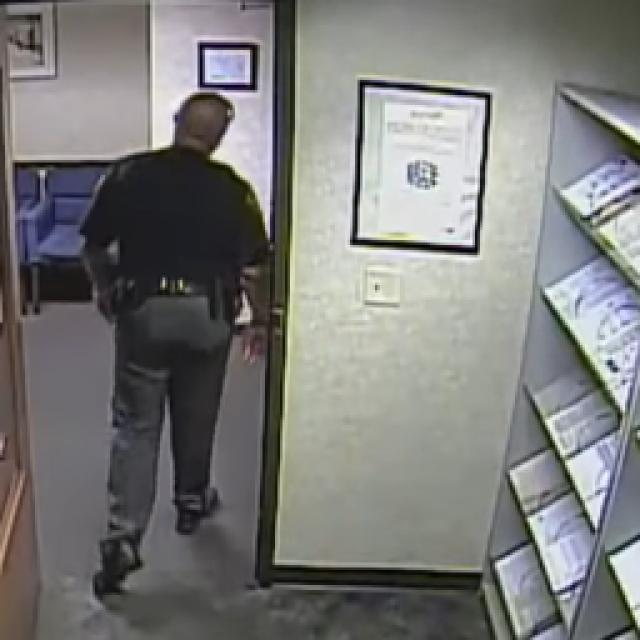person: (82, 90, 262, 595)
